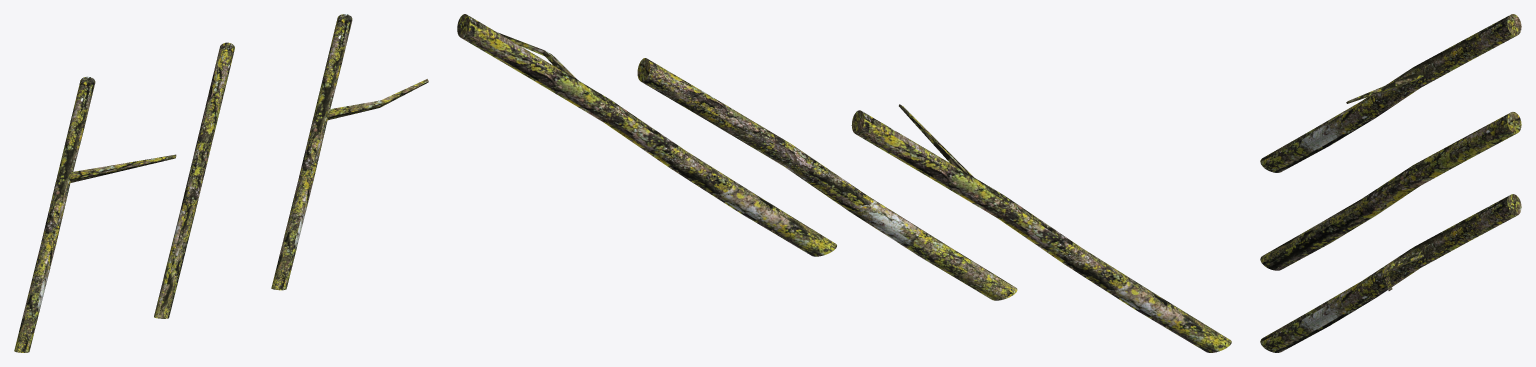
File: Sticks.fbx
The picture shows the model from 3 angles, left to right: view 1: azimuth 30°, elevation 25°; view 2: azimuth 150°, elevation 25°; view 3: azimuth 270°, elevation 25°; orthographic projection. The views are drawn at different scales.
Visible parts, largest first — view 1: Stick 3, Stick 1, Stick 2; view 2: Stick 3, Stick 1, Stick 2; view 3: Stick 3, Stick 1, Stick 2.
Boxes of the visible parts, x1,y1,x2,y2 form: Stick 3: [14, 76, 176, 352]; Stick 1: [271, 14, 428, 290]; Stick 2: [154, 42, 234, 318]; Stick 3: [851, 104, 1231, 352]; Stick 1: [457, 14, 836, 256]; Stick 2: [637, 58, 1017, 300]; Stick 3: [1260, 14, 1521, 172]; Stick 1: [1260, 194, 1521, 352]; Stick 2: [1260, 112, 1521, 270].
Bounding box in the file's own units: 75.42 × 28.51 × 26.13.
